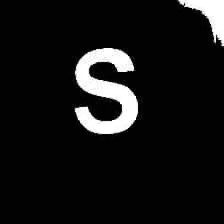LTR_S: (68, 41, 142, 142)
